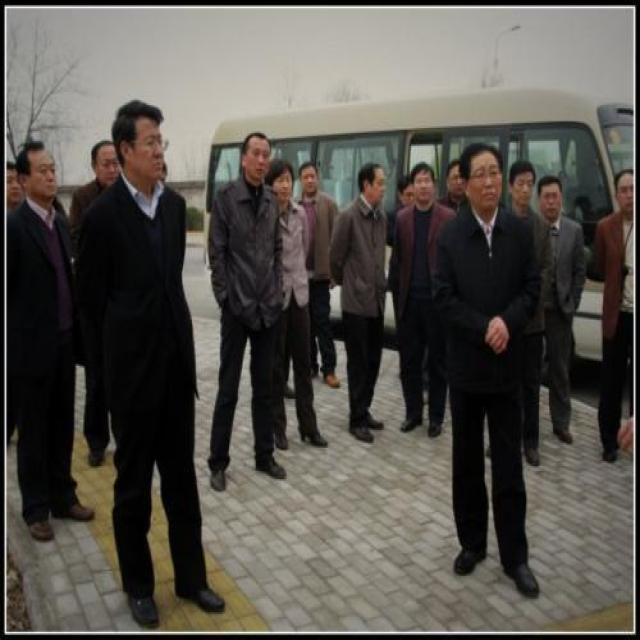no-helmet: (113, 97, 169, 190), (461, 138, 504, 215), (19, 135, 58, 210), (238, 130, 273, 186), (613, 160, 638, 234), (535, 170, 567, 227), (88, 136, 120, 192), (507, 158, 537, 215), (267, 158, 297, 212), (359, 158, 389, 205), (411, 161, 434, 210), (445, 159, 470, 200), (396, 174, 416, 213), (300, 161, 322, 195)
